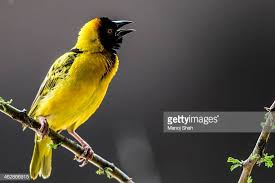target: (27, 12, 143, 183)
